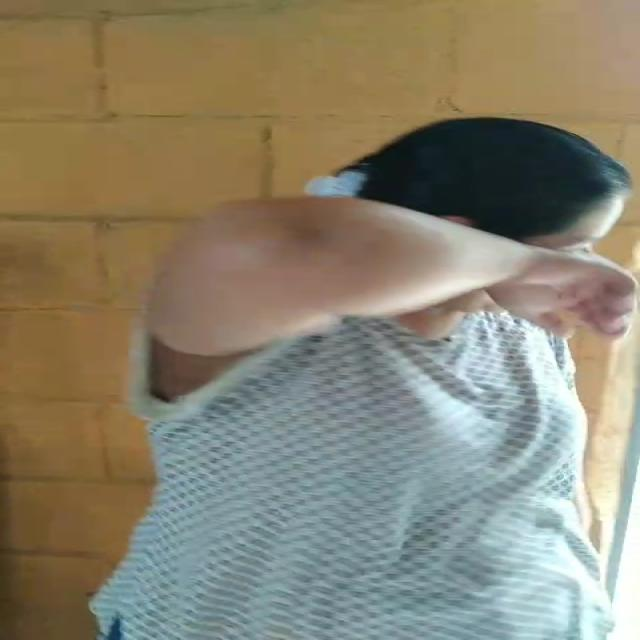7_mano_rostro: (316, 193, 633, 339)
